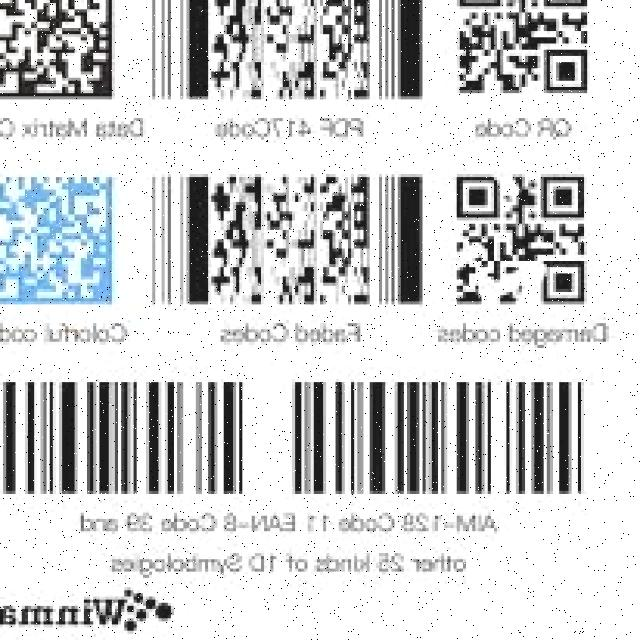datamatrix: (0, 0, 121, 109)
